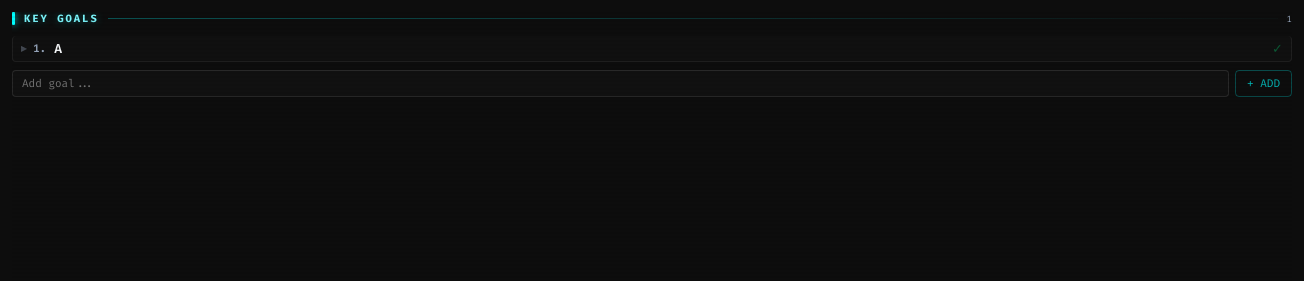
Test: delete is only available inside the opened editor
Expected: the text "DELETE" is not shown
Double-click the text "A": (58, 48) [54, 40, 62, 57]
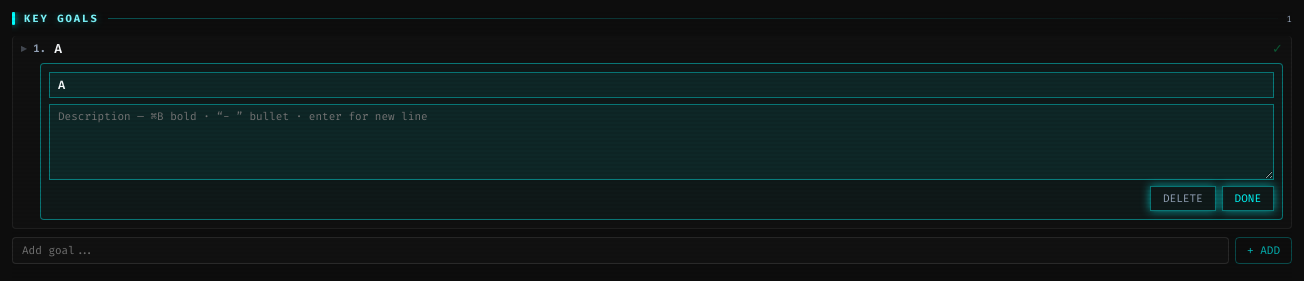
Expected: the button "DELETE" is shown, [1150, 186, 1216, 211]
